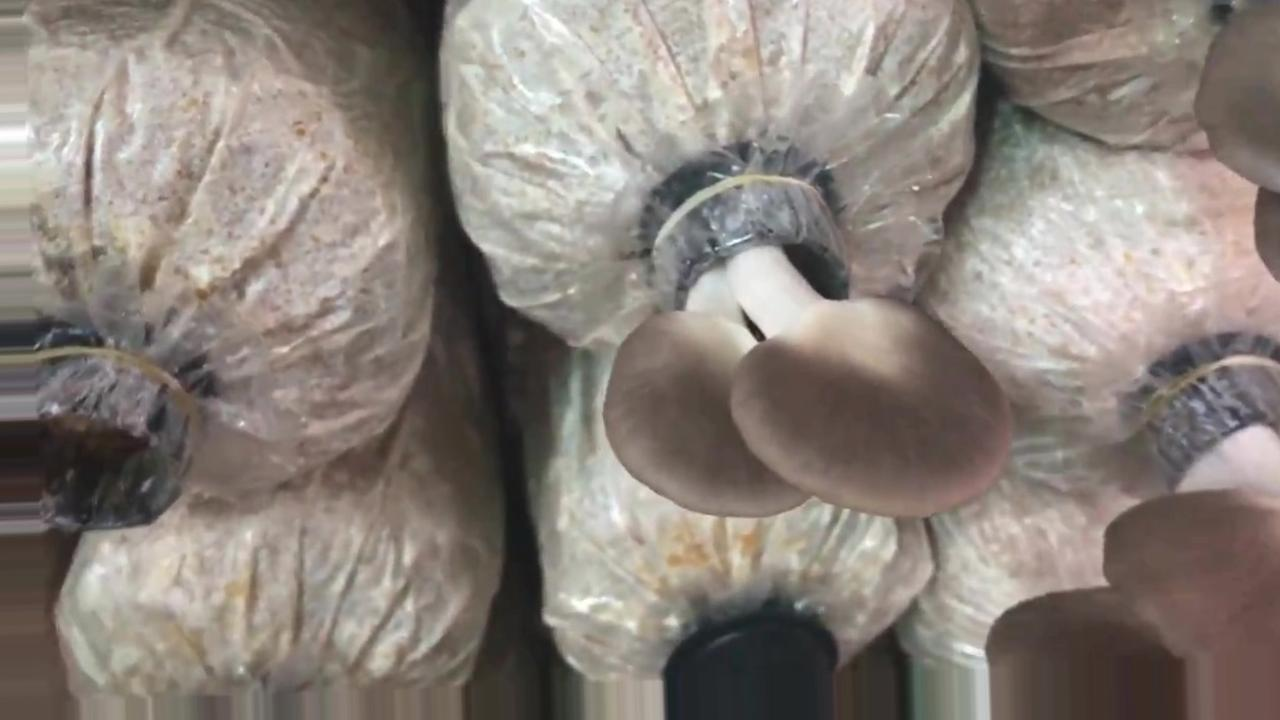nam: (603, 164, 1007, 517), (983, 357, 1280, 720)
